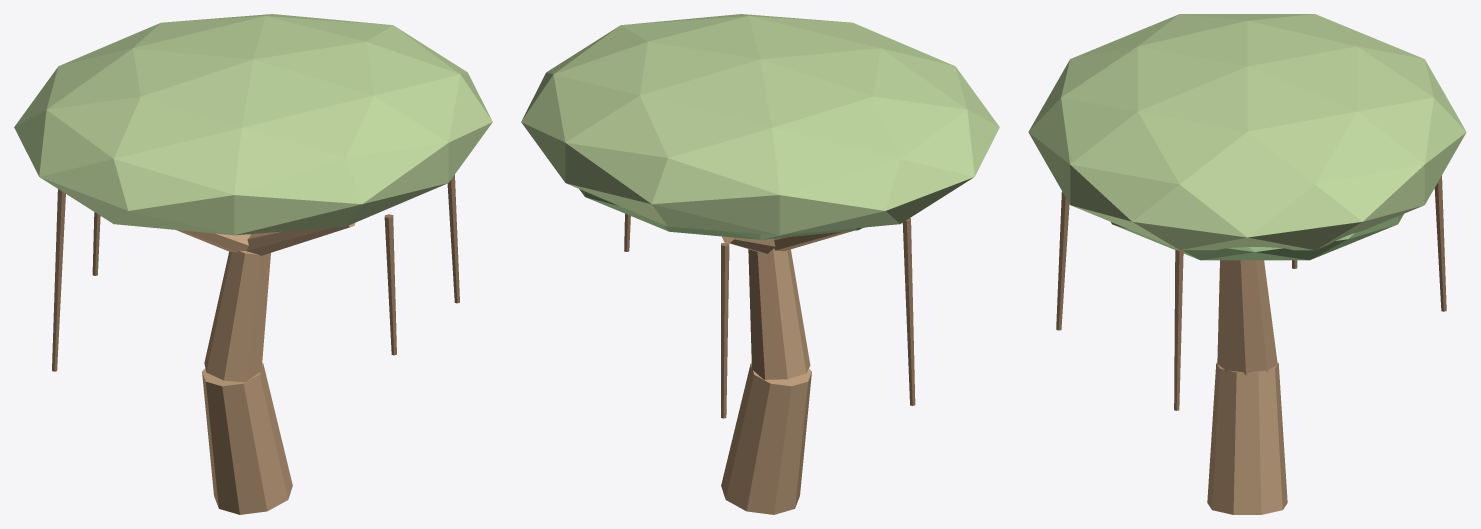
File: tree_02.glb
3 views of the same model, side by side, from view 1: azimuth 30°, elevation 25°; view 2: azimuth 150°, elevation 25°; view 3: azimuth 270°, elevation 25° (orthographic).
Parts seen in each view (by area): view 1: canopy, trunk_a, trunk_b, branch_2, root_1, root_2, root_0, branch_1; view 2: canopy, trunk_a, trunk_b, canopy_under, root_1, root_3, branch_1, branch_3; view 3: canopy, trunk_a, trunk_b, canopy_under, root_0, root_2, root_3.
Boxes of the visible parts, x1=… form: canopy: x1=14, y1=14, x2=492, y2=235; trunk_a: x1=202, y1=363, x2=292, y2=514; trunk_b: x1=204, y1=250, x2=270, y2=382; branch_2: x1=246, y1=223, x2=355, y2=255; root_1: x1=52, y1=189, x2=65, y2=371; root_2: x1=384, y1=214, x2=396, y2=355; root_0: x1=447, y1=174, x2=459, y2=303; branch_1: x1=176, y1=230, x2=250, y2=252; canopy: x1=521, y1=14, x2=999, y2=235; trunk_a: x1=721, y1=363, x2=811, y2=514; trunk_b: x1=748, y1=248, x2=810, y2=379; canopy_under: x1=579, y1=189, x2=862, y2=239; root_1: x1=902, y1=218, x2=915, y2=405; root_3: x1=721, y1=242, x2=729, y2=418; branch_1: x1=774, y1=227, x2=864, y2=251; branch_3: x1=721, y1=236, x2=775, y2=253; canopy: x1=1028, y1=14, x2=1466, y2=250; trunk_a: x1=1207, y1=362, x2=1287, y2=514; trunk_b: x1=1217, y1=260, x2=1277, y2=375; canopy_under: x1=1111, y1=214, x2=1403, y2=260; root_0: x1=1174, y1=248, x2=1183, y2=410; root_2: x1=1056, y1=191, x2=1069, y2=330; root_3: x1=1434, y1=176, x2=1446, y2=311.
Bounding box in the file's own units: 3.56 × 3.5 × 3.13.
